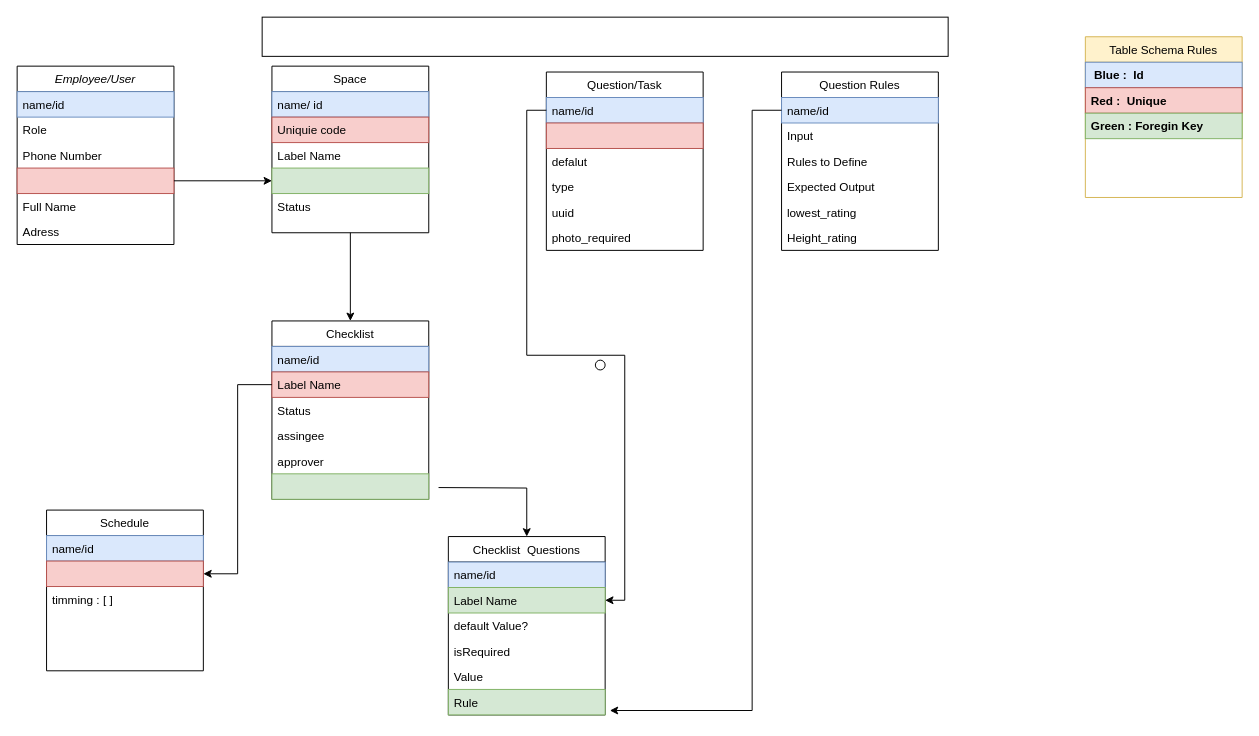
The diagram is 1259 pixels wide and 736 high, and some of its shapes have lost their labels. Each missing label, with the centre of its shape:
"checklist_id" belongs at pixel 124 573.
"checklist_question_list" belongs at pixel 350 486.
"Email Address" belongs at pixel 95 180.
"Label" belongs at pixel 624 135.
"STEPSET TABLE SCHEMA DESIGN" belongs at pixel 604 36.
"SuperVisor" belongs at pixel 350 180.
